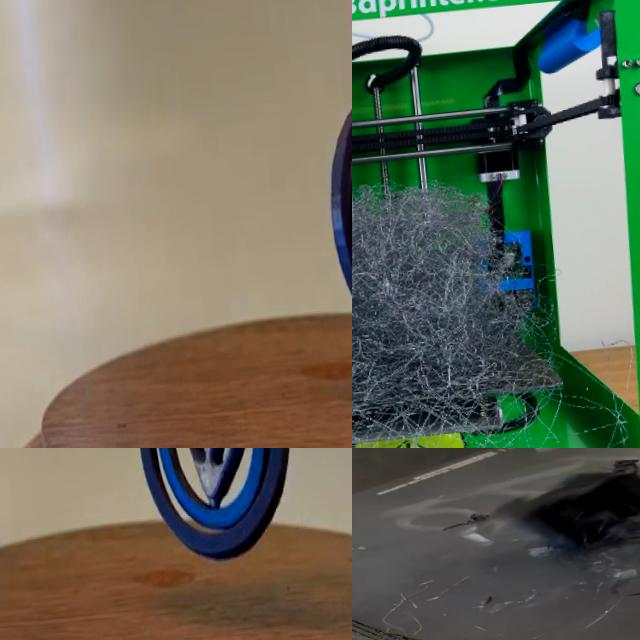spaghetti: (352, 187, 634, 448)
